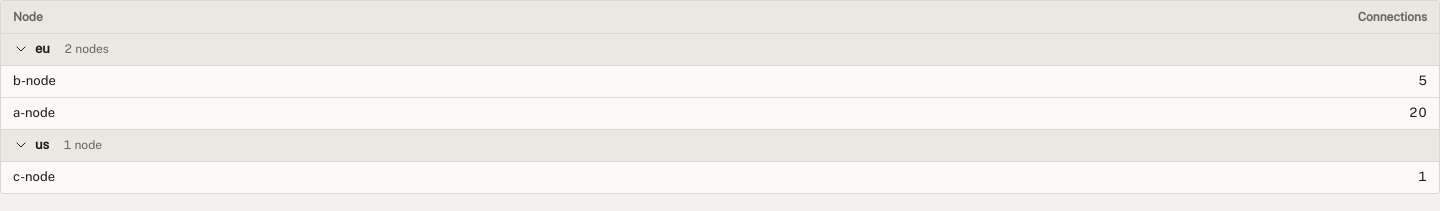
Test: DataTable › shows groups with a rollup and collapses them
The width and height of the screenshot is (1440, 211).
Expected: the text "2 nodes" is shown, [64, 41, 109, 57]
Expected: the text "b-node" is shown, [1, 65, 601, 97]
Click the button "eu 2 nodes".
click(86, 49)  # box [13, 40, 1427, 58]
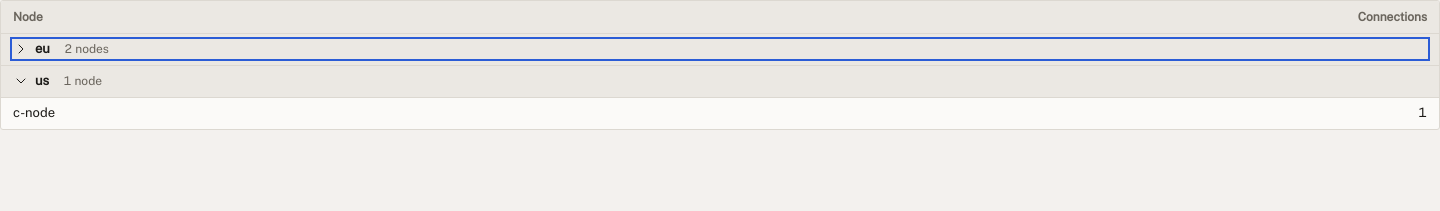
Expected: the text "c-node" is shown, [1, 97, 597, 129]
Result: the text "b-node" is gone
